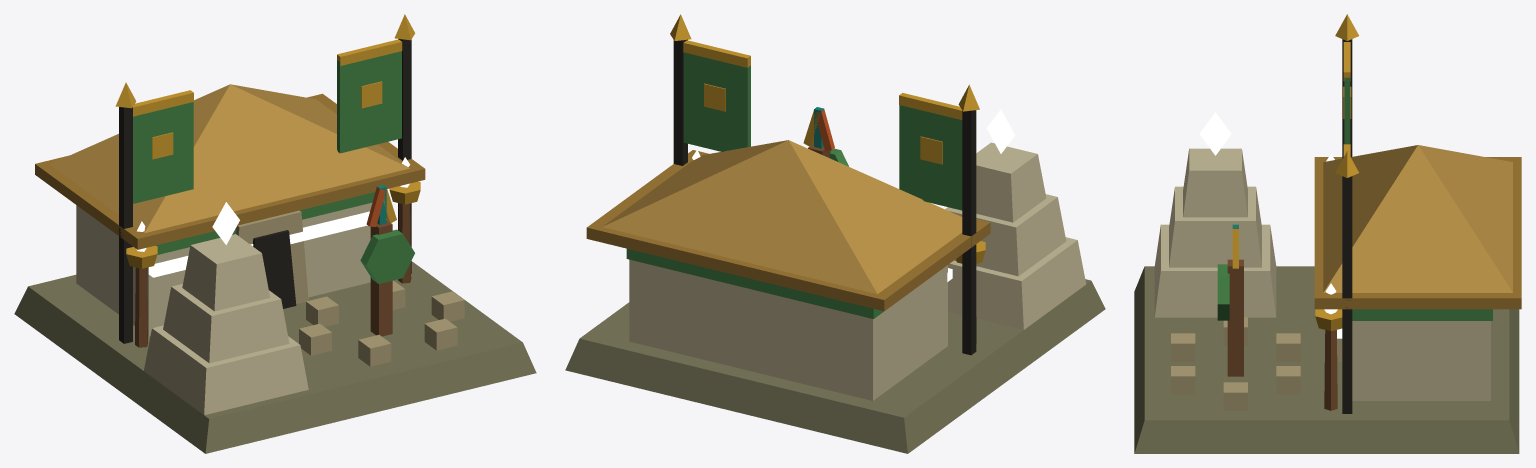
File: camp_ranger_t3.glb
The picture shows the model from 3 angles, left to right: view 1: azimuth 30°, elevation 25°; view 2: azimuth 150°, elevation 25°; view 3: azimuth 270°, elevation 25°; orthographic projection. The views are drawn at different scales.
Parts seen in each view (by area): view 1: body, glow; view 2: body, glow; view 3: body, glow.
Boxes of the visible parts, <box> form: body: <box>14,14,536,453</box>; glow: <box>136,157,410,277</box>; body: <box>565,14,1105,453</box>; glow: <box>692,109,1015,281</box>; body: <box>1134,14,1521,453</box>; glow: <box>1199,112,1342,338</box>.
Bounding box in the file's own units: 1.9 × 1.58 × 1.91.
